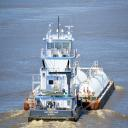tugboat: (25, 22, 86, 126)
